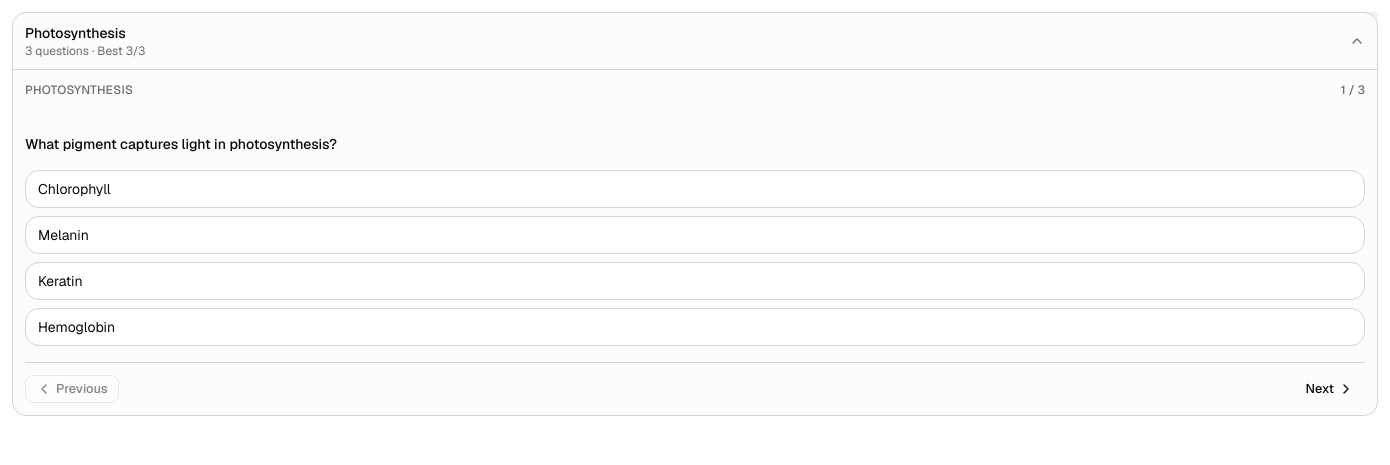
Test case: QuizPanel — saved best score › shows the best whole-quiz score next to the quiz and on its results screen
Expected: the text "3 questions · Best 3/3" is shown, 25,43 -> 145,59
Click the button "Chlorophyll".
click(74, 189)  # box 25,170 -> 1365,208
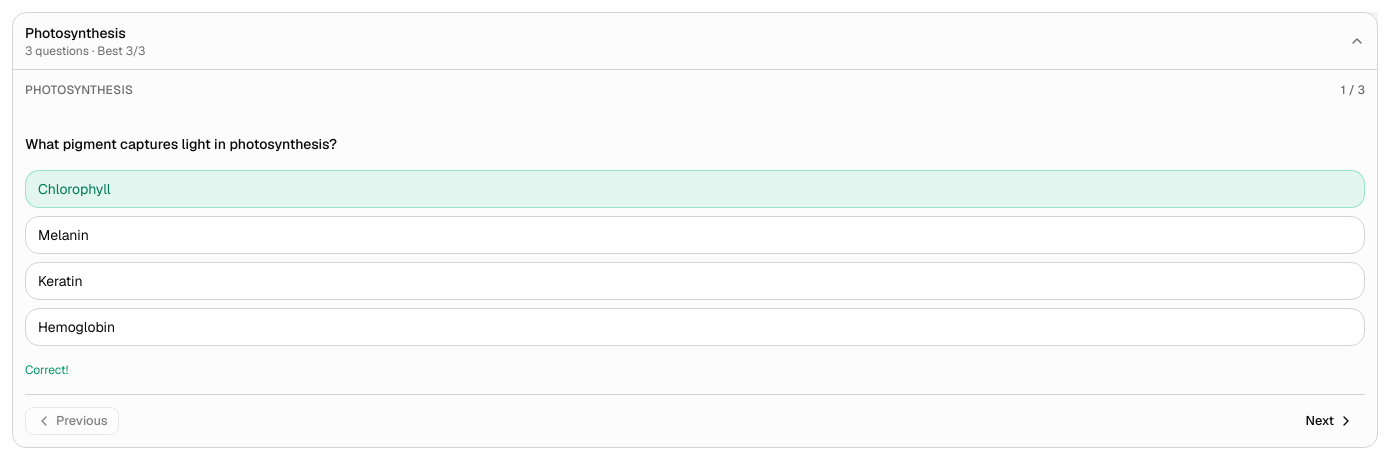
Click the button with aria-label "Next question".
click(1330, 421)  # box 1294,407 -> 1365,435
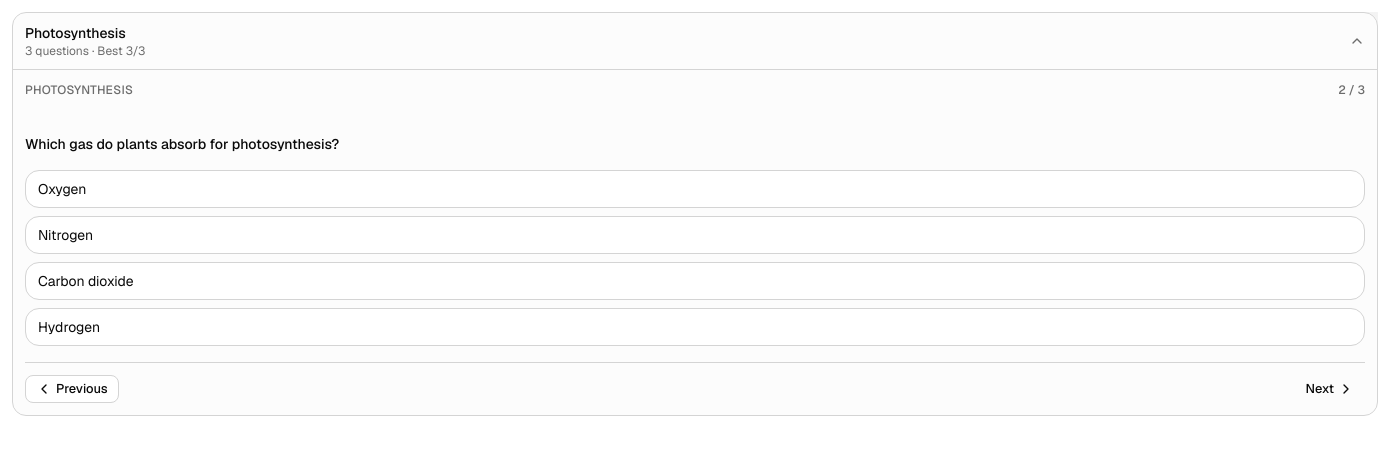
Click the button "Oxygen".
click(62, 189)  # box 25,170 -> 1365,208
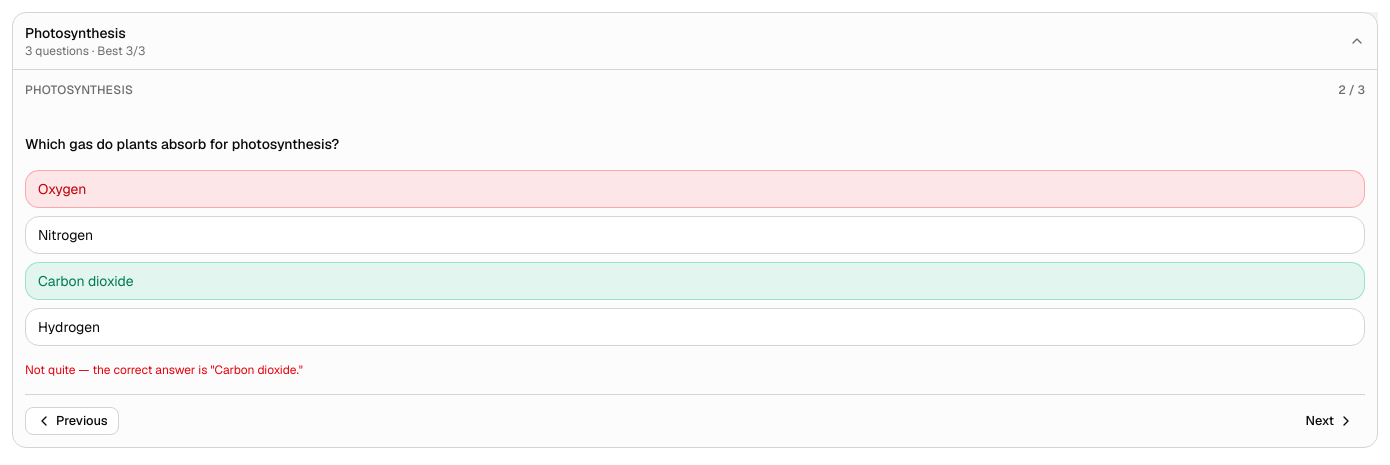
Click the button with aria-label "Next question".
click(1330, 421)  # box 1294,407 -> 1365,435
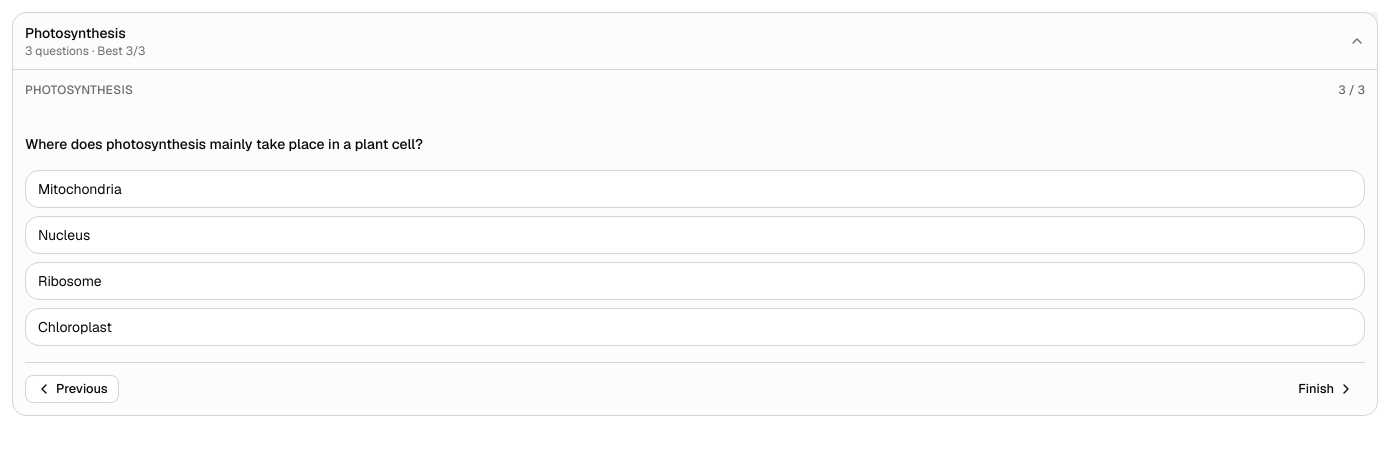
Click the button "Nucleus".
click(64, 235)  # box 25,216 -> 1365,254
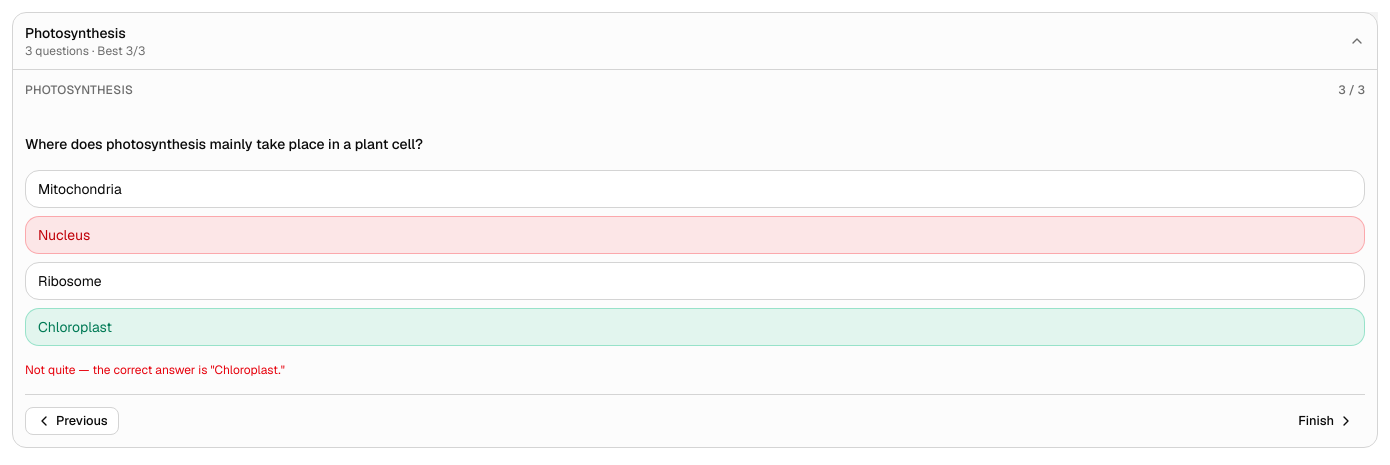
Click the button with aria-label "Finish quiz".
click(1326, 421)  # box 1287,407 -> 1365,435
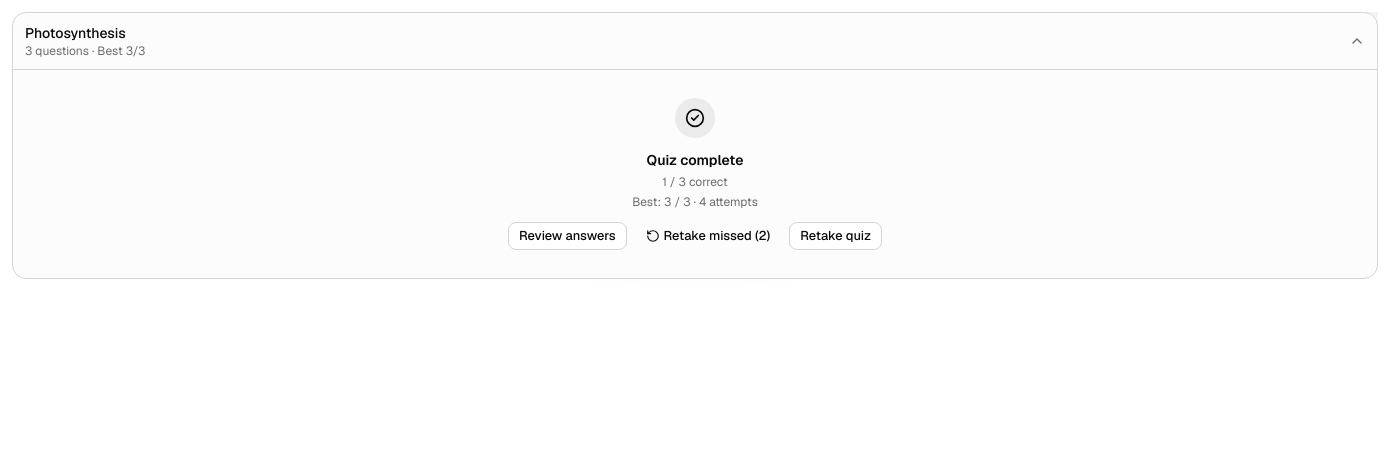
Expected: the text "Best: 3 / 3 · 4 attempts" is shown, 632,194 -> 758,210
